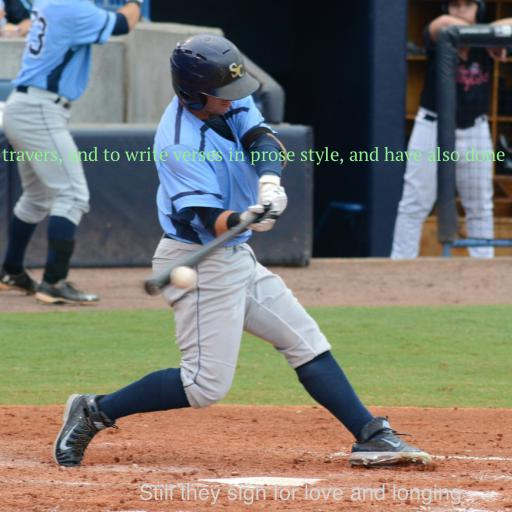Helvetica: (138, 484, 462, 505)
PT Serif: (1, 146, 505, 165)
